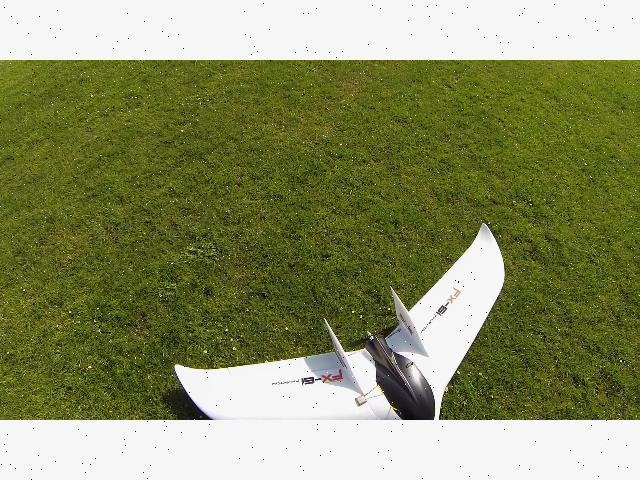Anti-Drone: (170, 220, 514, 419)
